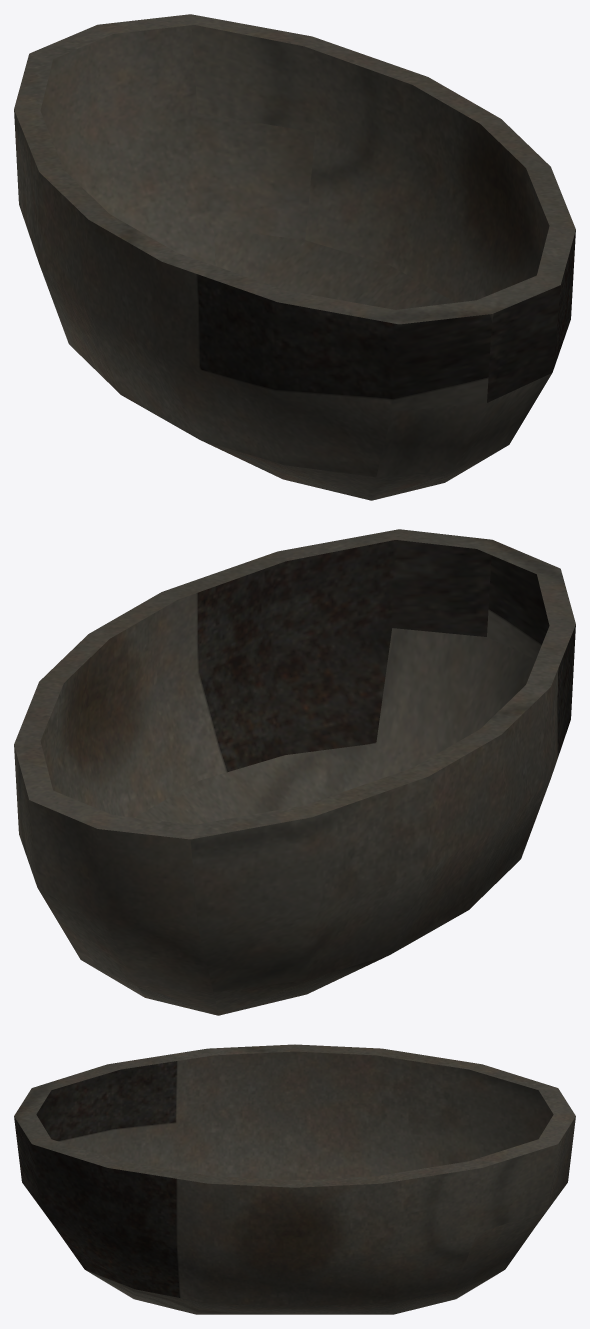
Rendered from Bathtub.fbx.
3 views of the same model, one above another, from view 1: azimuth 30°, elevation 25°; view 2: azimuth 150°, elevation 25°; view 3: azimuth 270°, elevation 25° (orthographic). The views are drawn at different scales.
Parts seen in each view (by area): view 1: Bathtub; view 2: Bathtub; view 3: Bathtub.
Boxes of the visible parts, box(x1,y1,x2,y2) form: Bathtub: box(14, 14, 575, 500); Bathtub: box(14, 529, 575, 1015); Bathtub: box(14, 1044, 575, 1314).
Size of the model in its own units: 1.4 by 0.7854 by 2.33.
